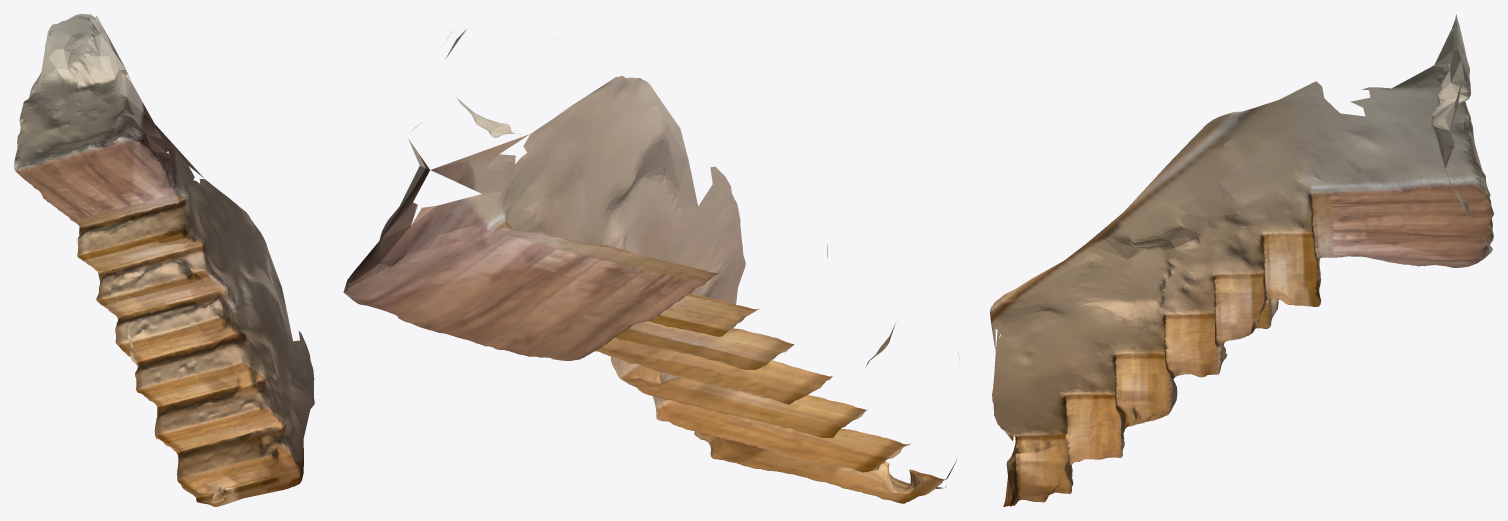
Rendered from step.glb.
3 renders of one model, left to right at view 1: azimuth 30°, elevation 25°; view 2: azimuth 150°, elevation 25°; view 3: azimuth 270°, elevation 25°, orthographic. The views are drawn at different scales.
Parts seen in each view (by area): view 1: mesh; view 2: mesh; view 3: mesh.
Boxes of the visible parts, bbox=[...] form: mesh: bbox=[14, 14, 314, 506]; mesh: bbox=[343, 29, 959, 503]; mesh: bbox=[990, 14, 1493, 506].
Bounding box in the file's own units: 0.9487 × 2.32 × 2.32.
1 material, 1 textured.
